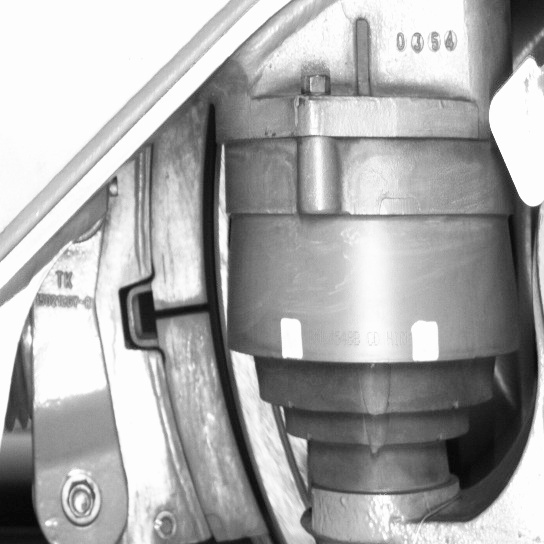KnifeSwitch: (153, 138, 288, 542)
